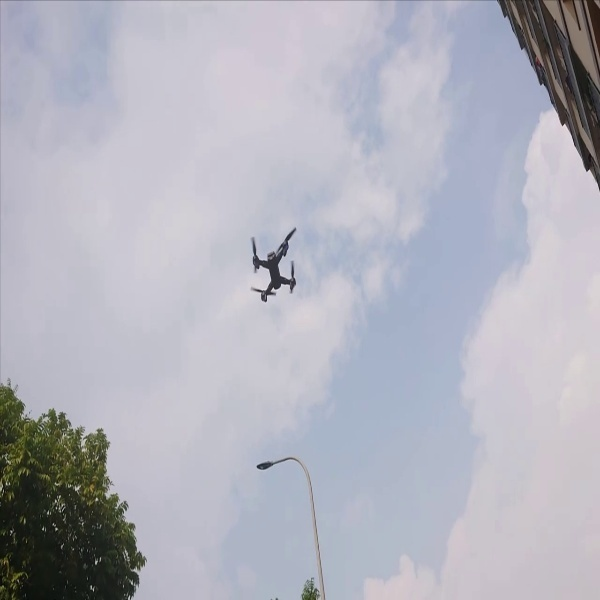drone: (240, 222, 311, 305)
